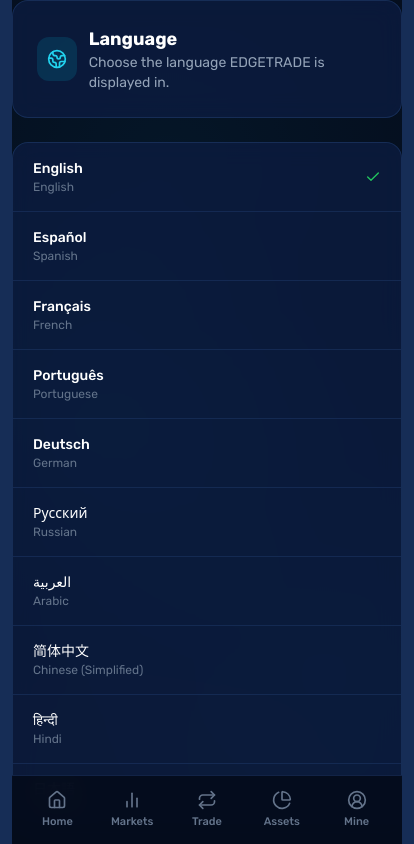
Test: LanguagesPage — real language switching (Tier 1: nav + Mine) › selecting Spanish immediately re-labels shared nav text elsewhere on the page (BottomNav), proving this is a real switch, not a static label
Expected: the link with aria-label "navigate to home" is shown, [42, 790, 73, 828]
Click the text "Español": (60, 238) [33, 229, 86, 246]
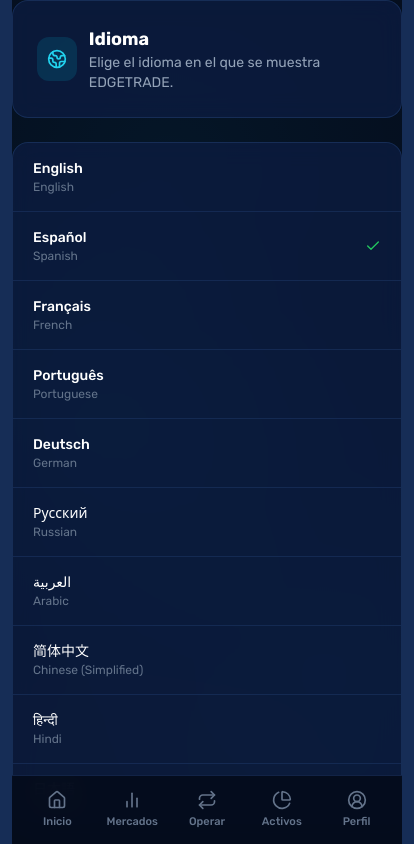
Now the link with aria-label "navigate to inicio" is shown, box [43, 790, 72, 828]
Now the link with aria-label "navigate to mercados" is shown, box [106, 790, 158, 828]
